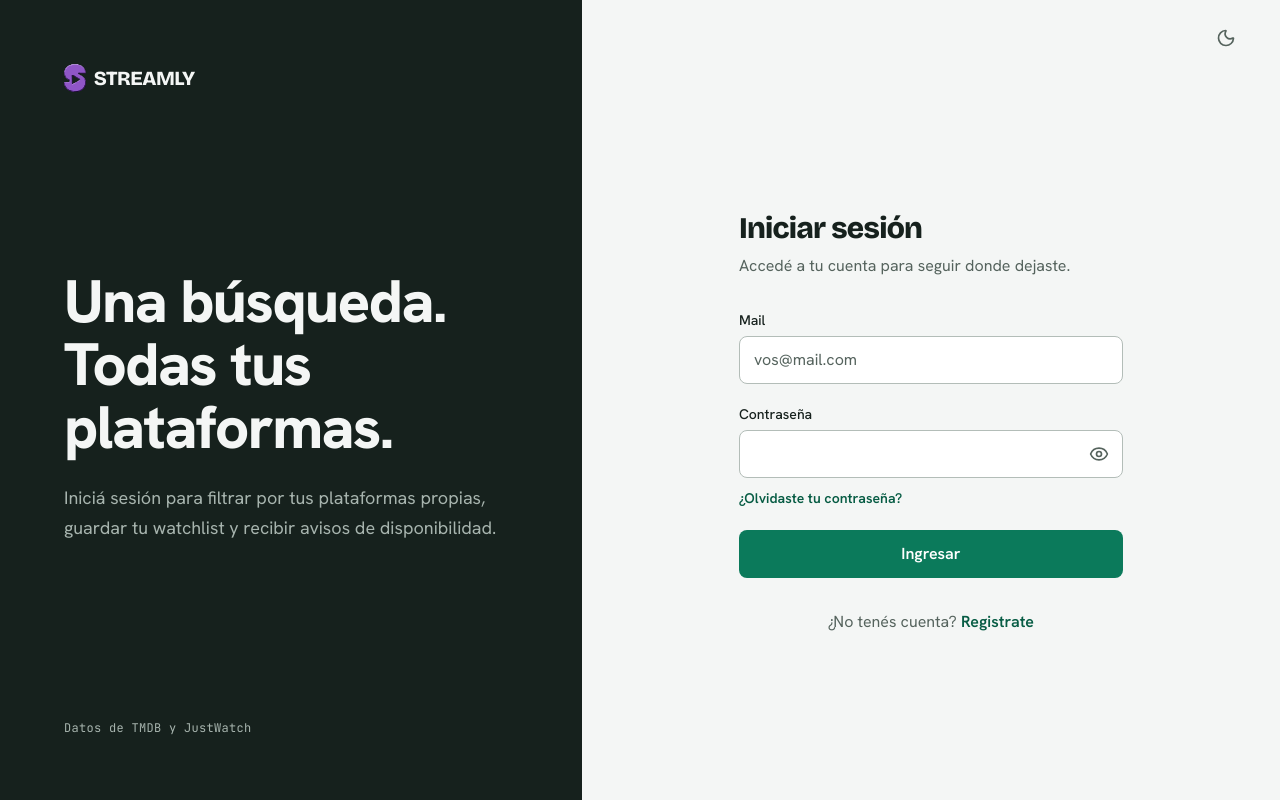
Test case: Inicio de sesión (E4HU2) › muestra un mensaje genérico si las credenciales no son correctas
Type "ana@mail.com" into the field labelled "Mail" at (931, 360), box [739, 336, 1123, 384]
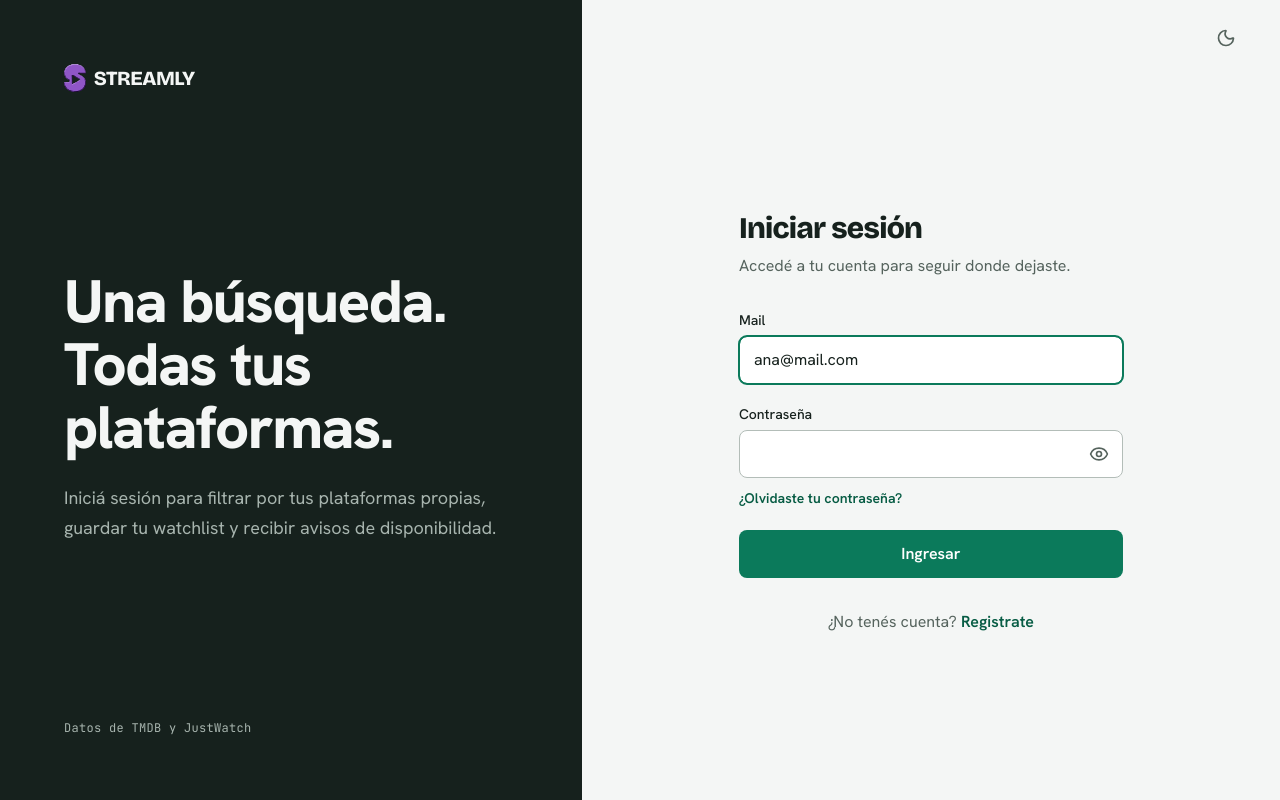
Type "Incorrecta#1" into the password field labelled "Contraseña" at (931, 454), box [739, 430, 1123, 478]
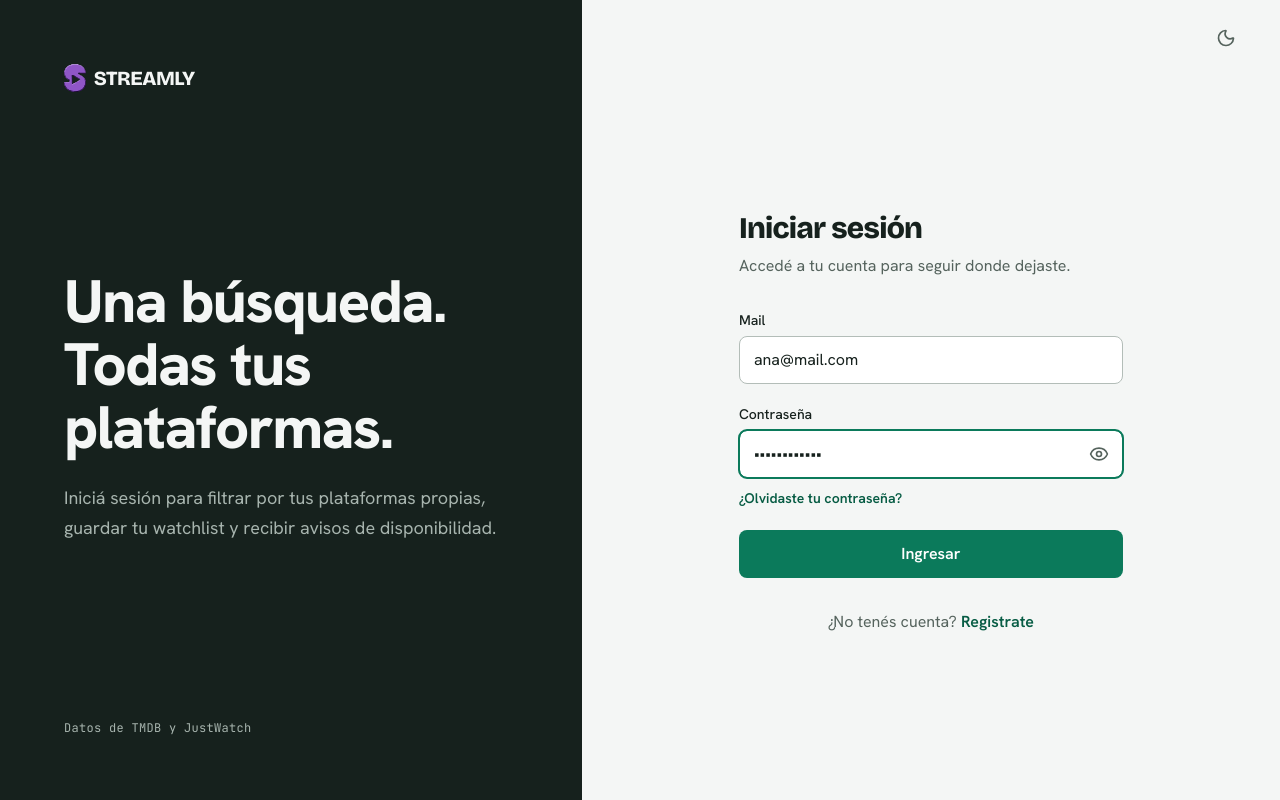
Click the button "Ingresar" at (931, 554), box [739, 530, 1123, 578]
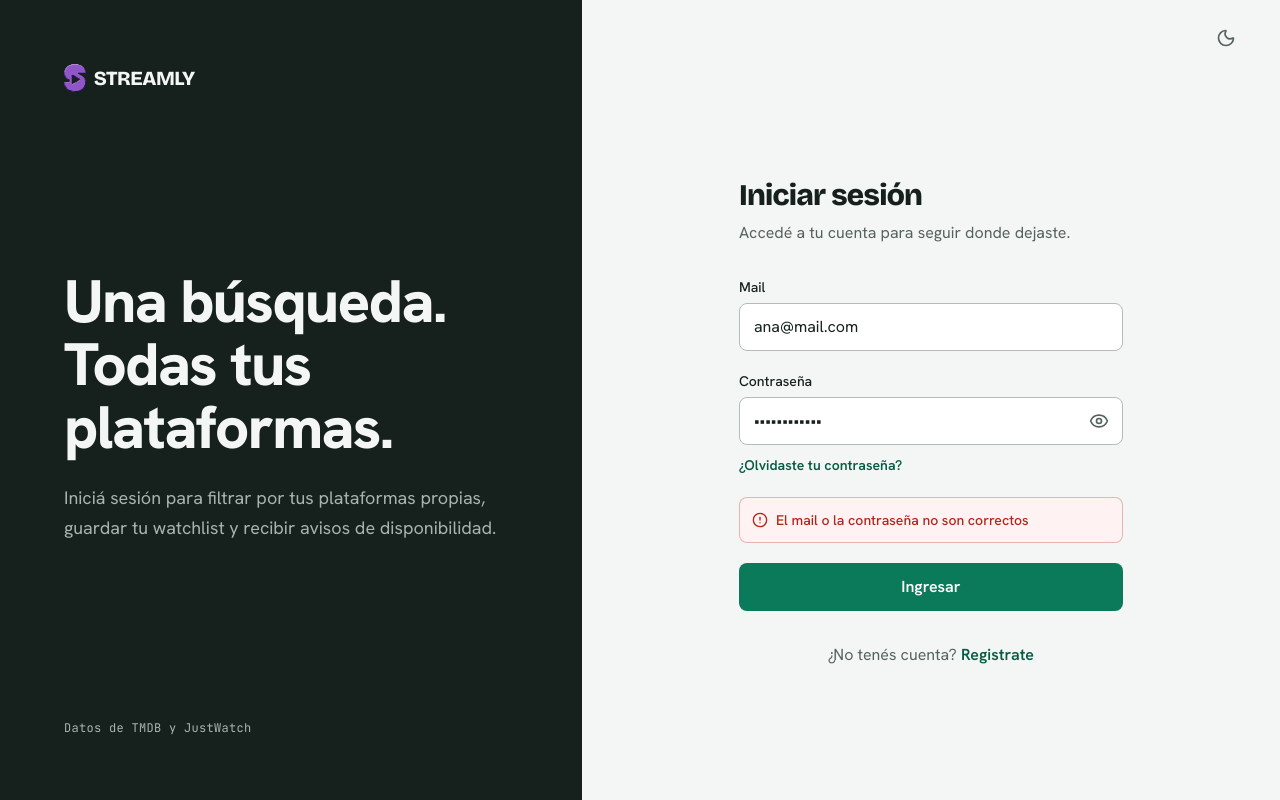
Expected: the heading "Iniciar sesión" is shown, [739, 177, 922, 213]
Result: the message reads "El mail o la contraseña no son correctos" at [776, 511, 1029, 529]
